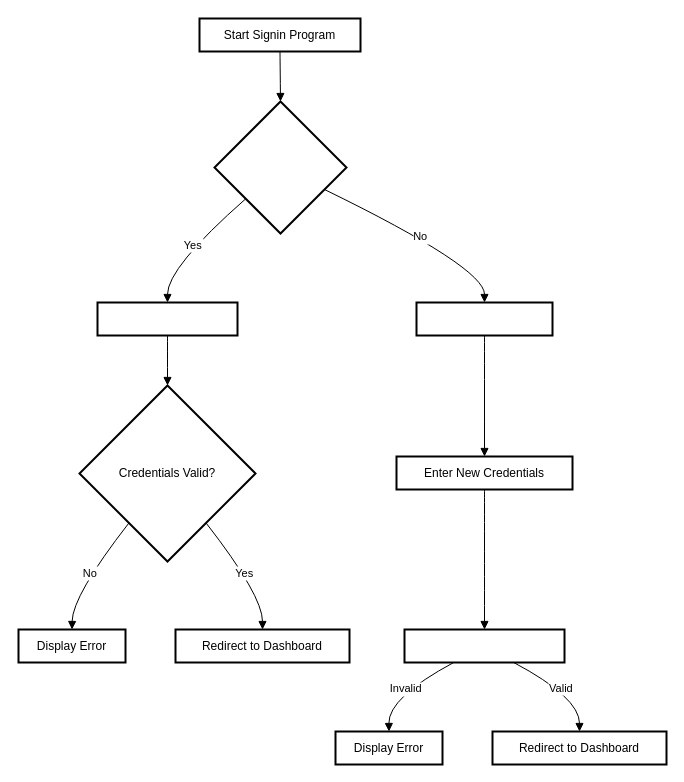
Some shapes in this 684 by 782 pixel diagram are drawn without their labels. Here are the shapes that lost their labels. From the top down, the box of each, then its label:
(213, 100, 347, 234): User Exists?
(96, 301, 238, 336): Enter Credentials
(415, 301, 553, 336): Create New User
(403, 628, 565, 663): Validate Credentials
